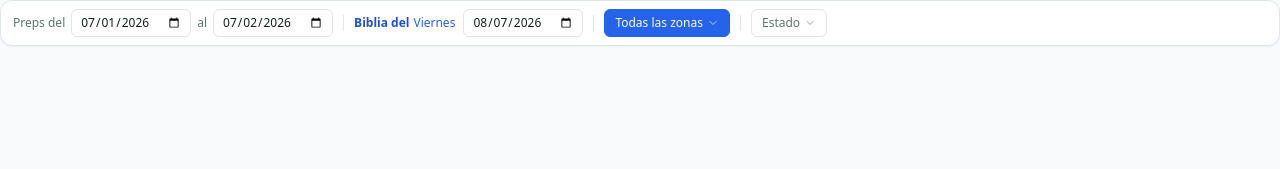
Test case: Filters — dropdown de zonas › "Todo" deselecciona todas cuando ya estaban todas marcadas (checkbox aparece marcado)
The width and height of the screenshot is (1280, 169).
Later steps or results of the test are not shown.
Click the button "Todas las zonas" at (667, 23), box x1=604 y1=9 x2=730 y2=37
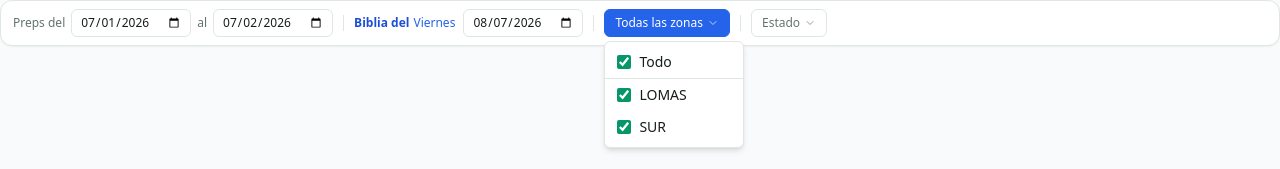
expect the checkbox labelled "Todo" is checked: met, box x1=617 y1=55 x2=631 y2=69
